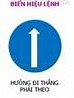Go_straight: (7, 19, 63, 74)
